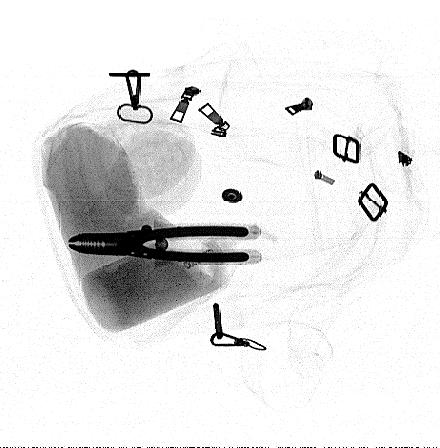Pliers: (67, 224, 253, 263)
